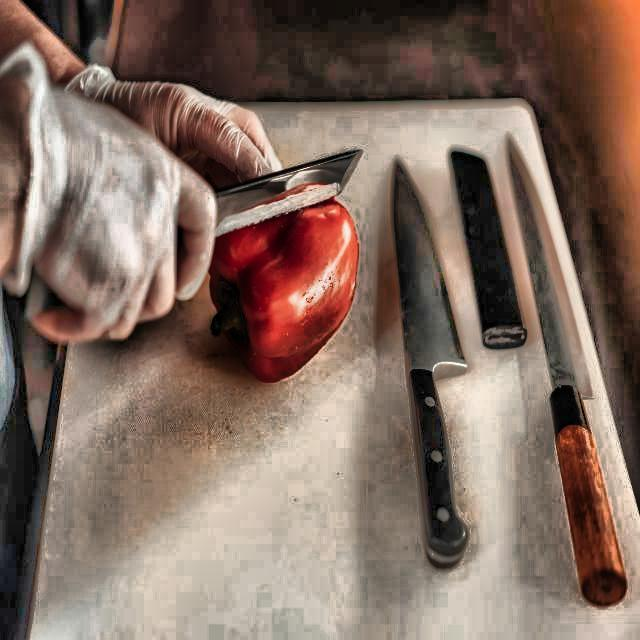knife: (504, 123, 632, 602), (388, 149, 474, 573)
